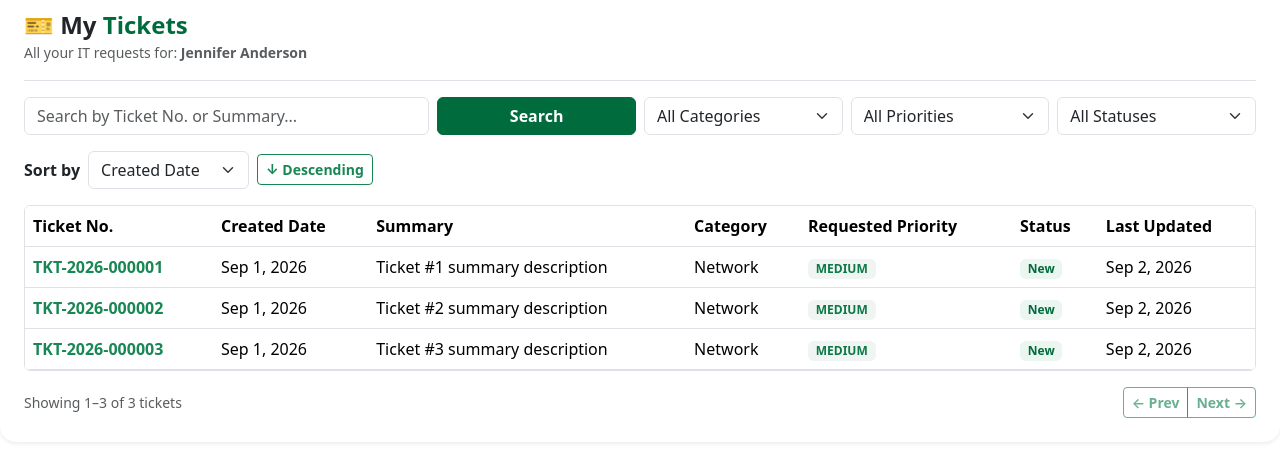
it: UI-05..UI-09: My Tickets List Screen (FR-05..FR-08) › UI-09: Sort select and Ascending/Descending toggle send sort & order params
Expected: the table with test id "my-tickets-table" is shown, [25, 206, 1255, 370]
Select "Priority" in the dropdown with test id "my-tickets-sort" at (168, 170), box [88, 151, 249, 189]
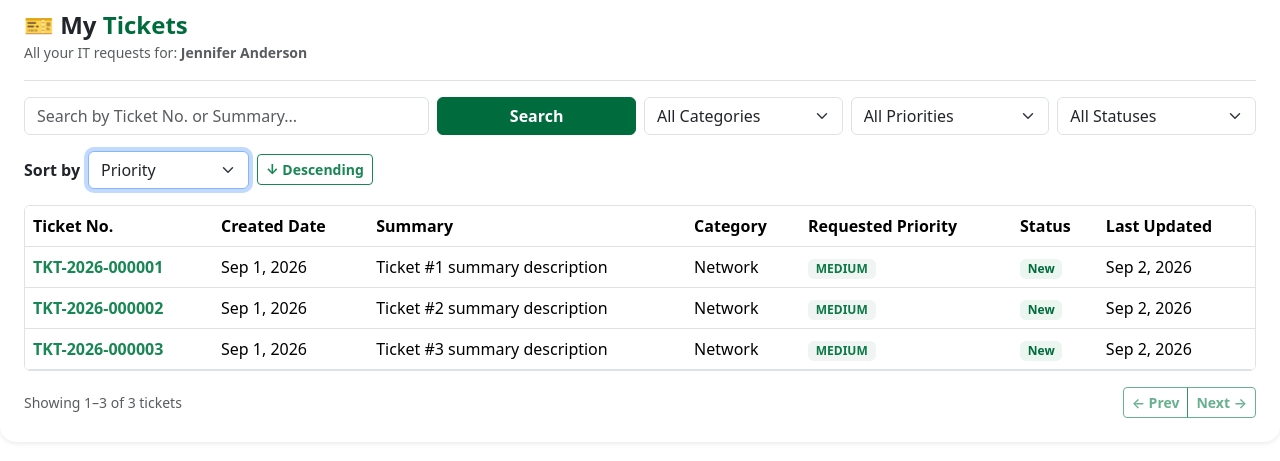
Click the button with test id "my-tickets-order-toggle" at (315, 170), box [257, 154, 373, 185]
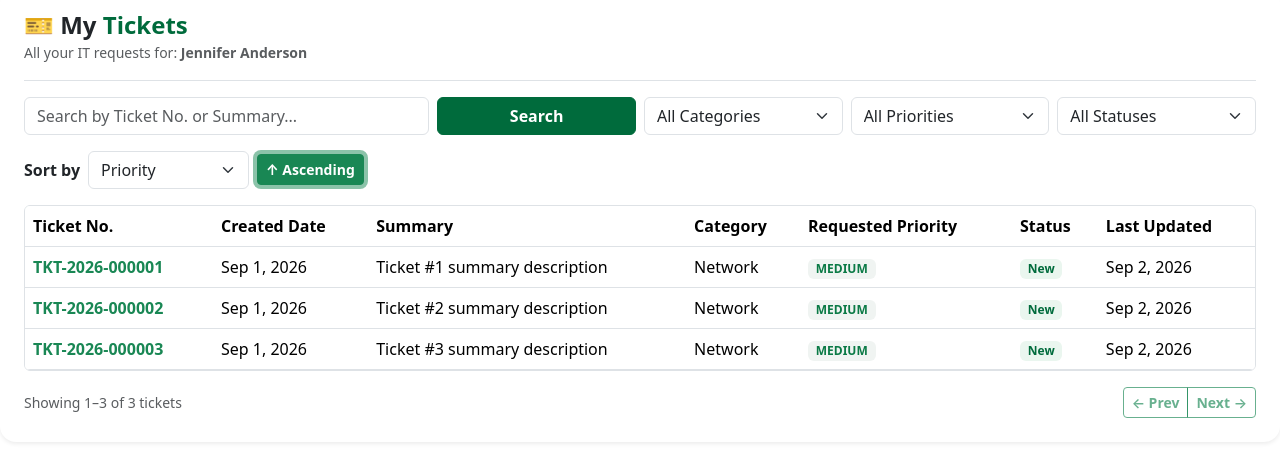
Expected: the button with test id "my-tickets-order-toggle" reads "↑ Ascending", [257, 154, 364, 185]
